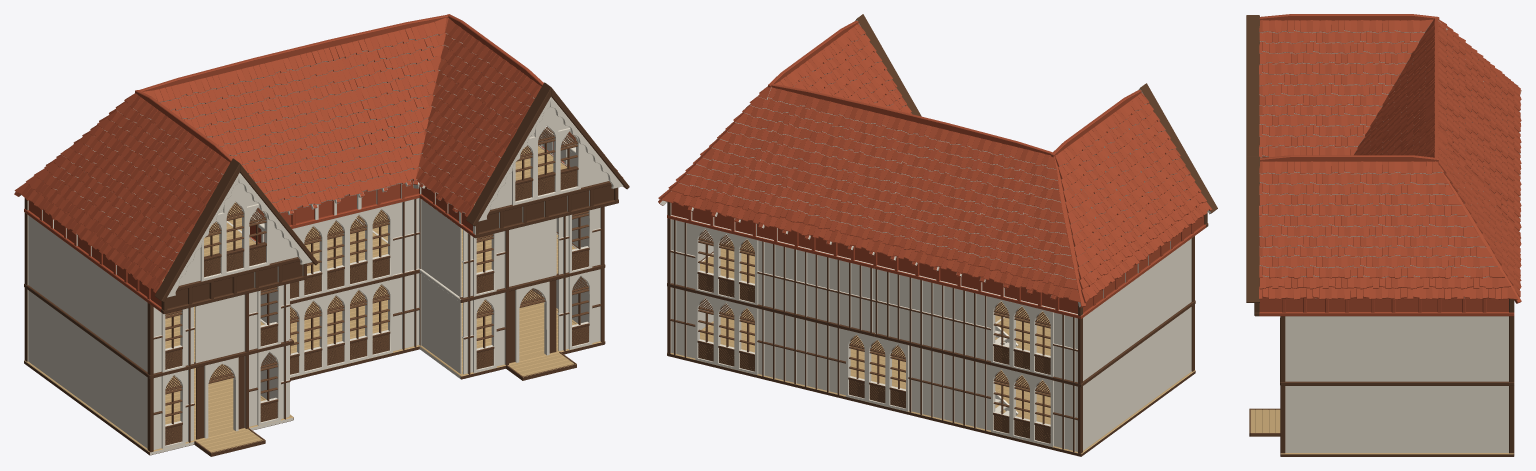
Rendered from house-split.glb.
3 views of the same model, side by side, from view 1: azimuth 30°, elevation 25°; view 2: azimuth 150°, elevation 25°; view 3: azimuth 270°, elevation 25° (orthographic). The views are drawn at different scales.
Visible parts, largest first — view 1: ROOF_01, WALL_01, TRIM_01, WINDOW_01, FLOOR_01; view 2: ROOF_01, WALL_01, TRIM_01, WINDOW_01, FLOOR_01; view 3: ROOF_01, WALL_01, TRIM_01, FLOOR_01.
Part boxes in pixels (x1,y1,x2,y2): ROOF_01: (14,14,622,311); WALL_01: (19,33,623,455); TRIM_01: (24,82,629,456); WINDOW_01: (165,127,589,455); FLOOR_01: (24,146,604,452); ROOF_01: (658,21,1212,318); WALL_01: (660,20,1210,451); TRIM_01: (667,14,1217,456); WINDOW_01: (698,229,1050,443); FLOOR_01: (667,239,1195,453); ROOF_01: (1259,14,1521,316); WALL_01: (1259,20,1521,452); TRIM_01: (1246,15,1514,456); FLOOR_01: (1249,409,1513,454).
Bounding box in the file's own units: 19.71 × 11.6 × 10.75.
